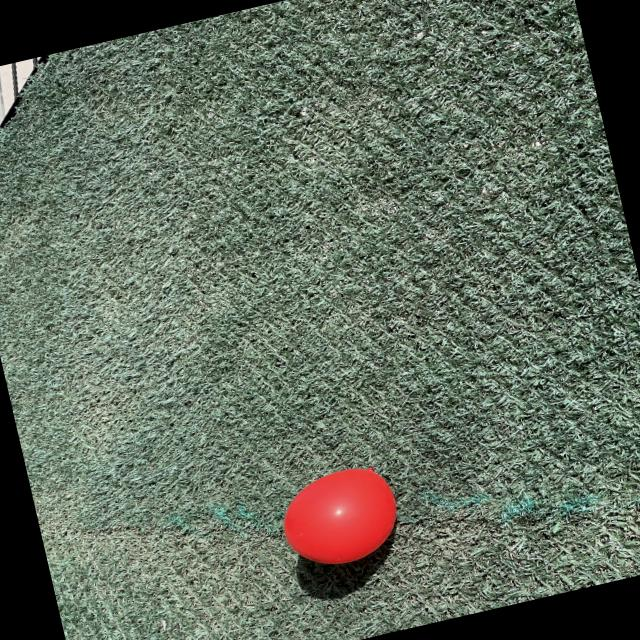balloon: (283, 468, 396, 563)
